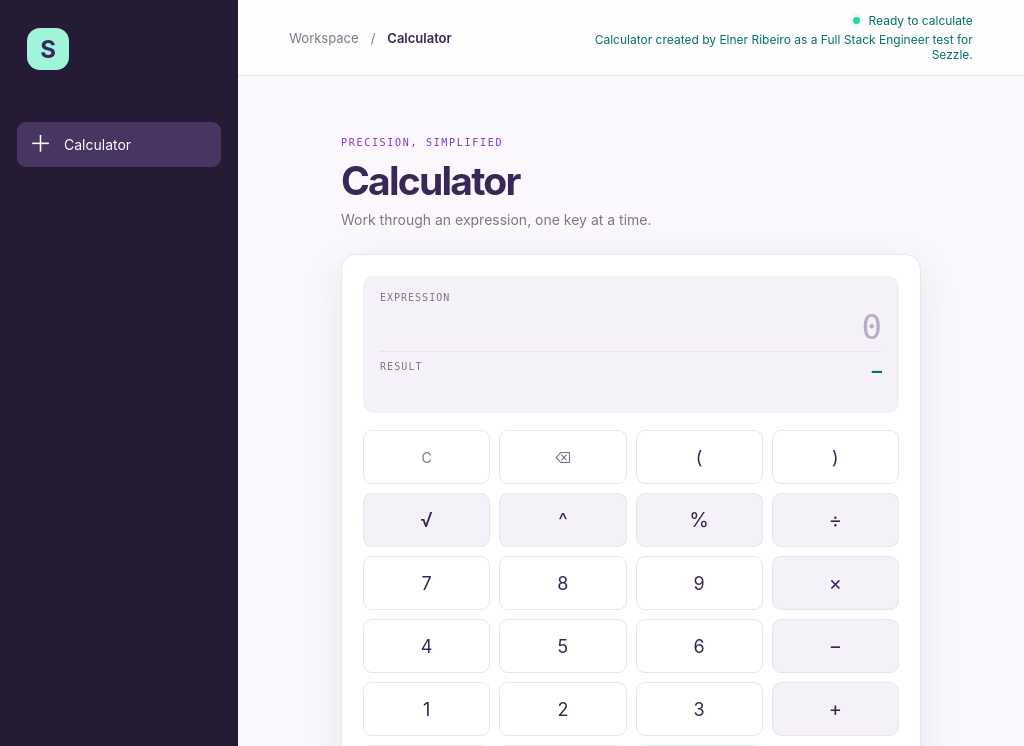
Test: calculator › keeps global entry active after a keypad clear before mixed input
This screenshot has width=1024, height=746.
Click the button "C".
click(427, 457)  # box [363, 430, 490, 484]
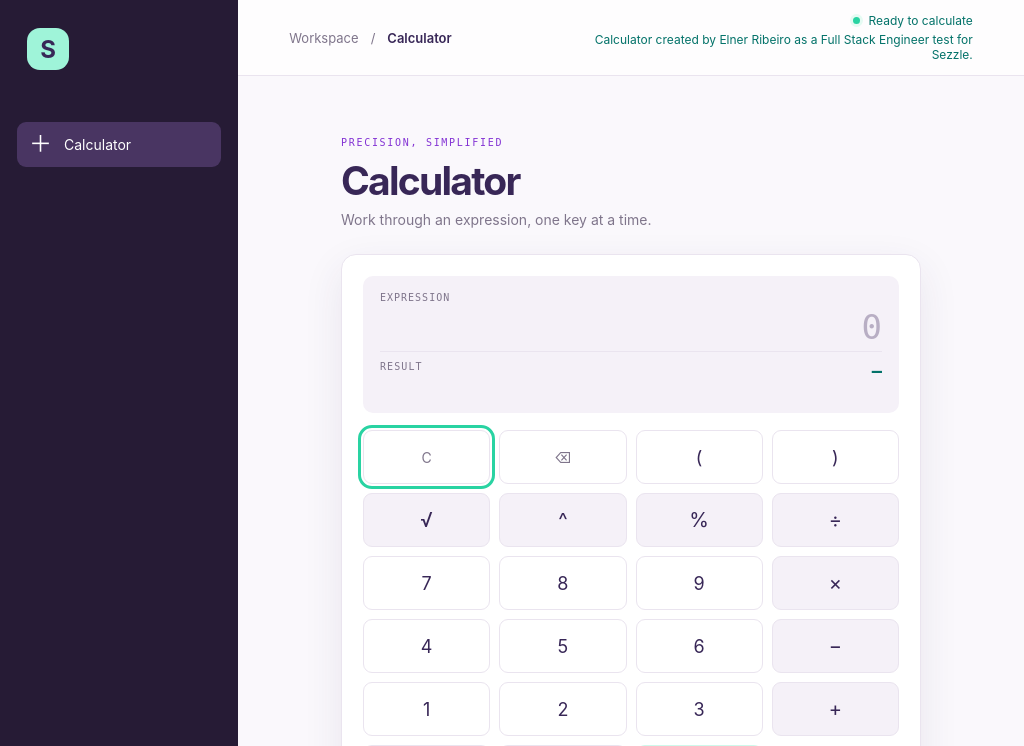
Type keys "2+3{Enter}"
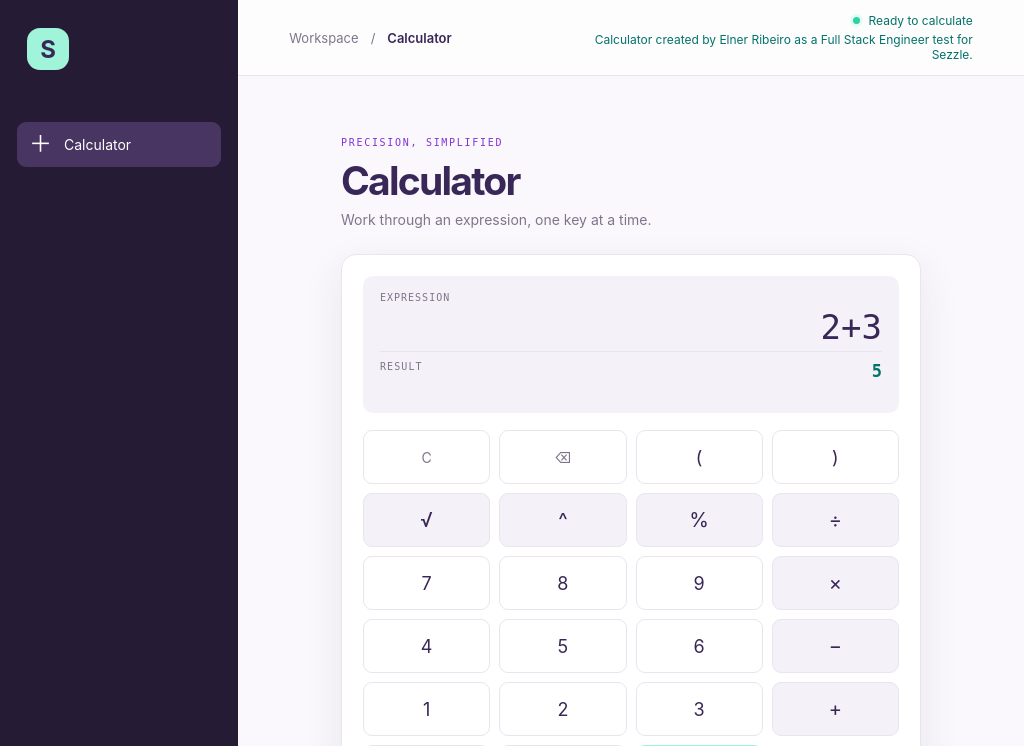
expect the message reads "5": met, box [872, 361, 882, 381]
